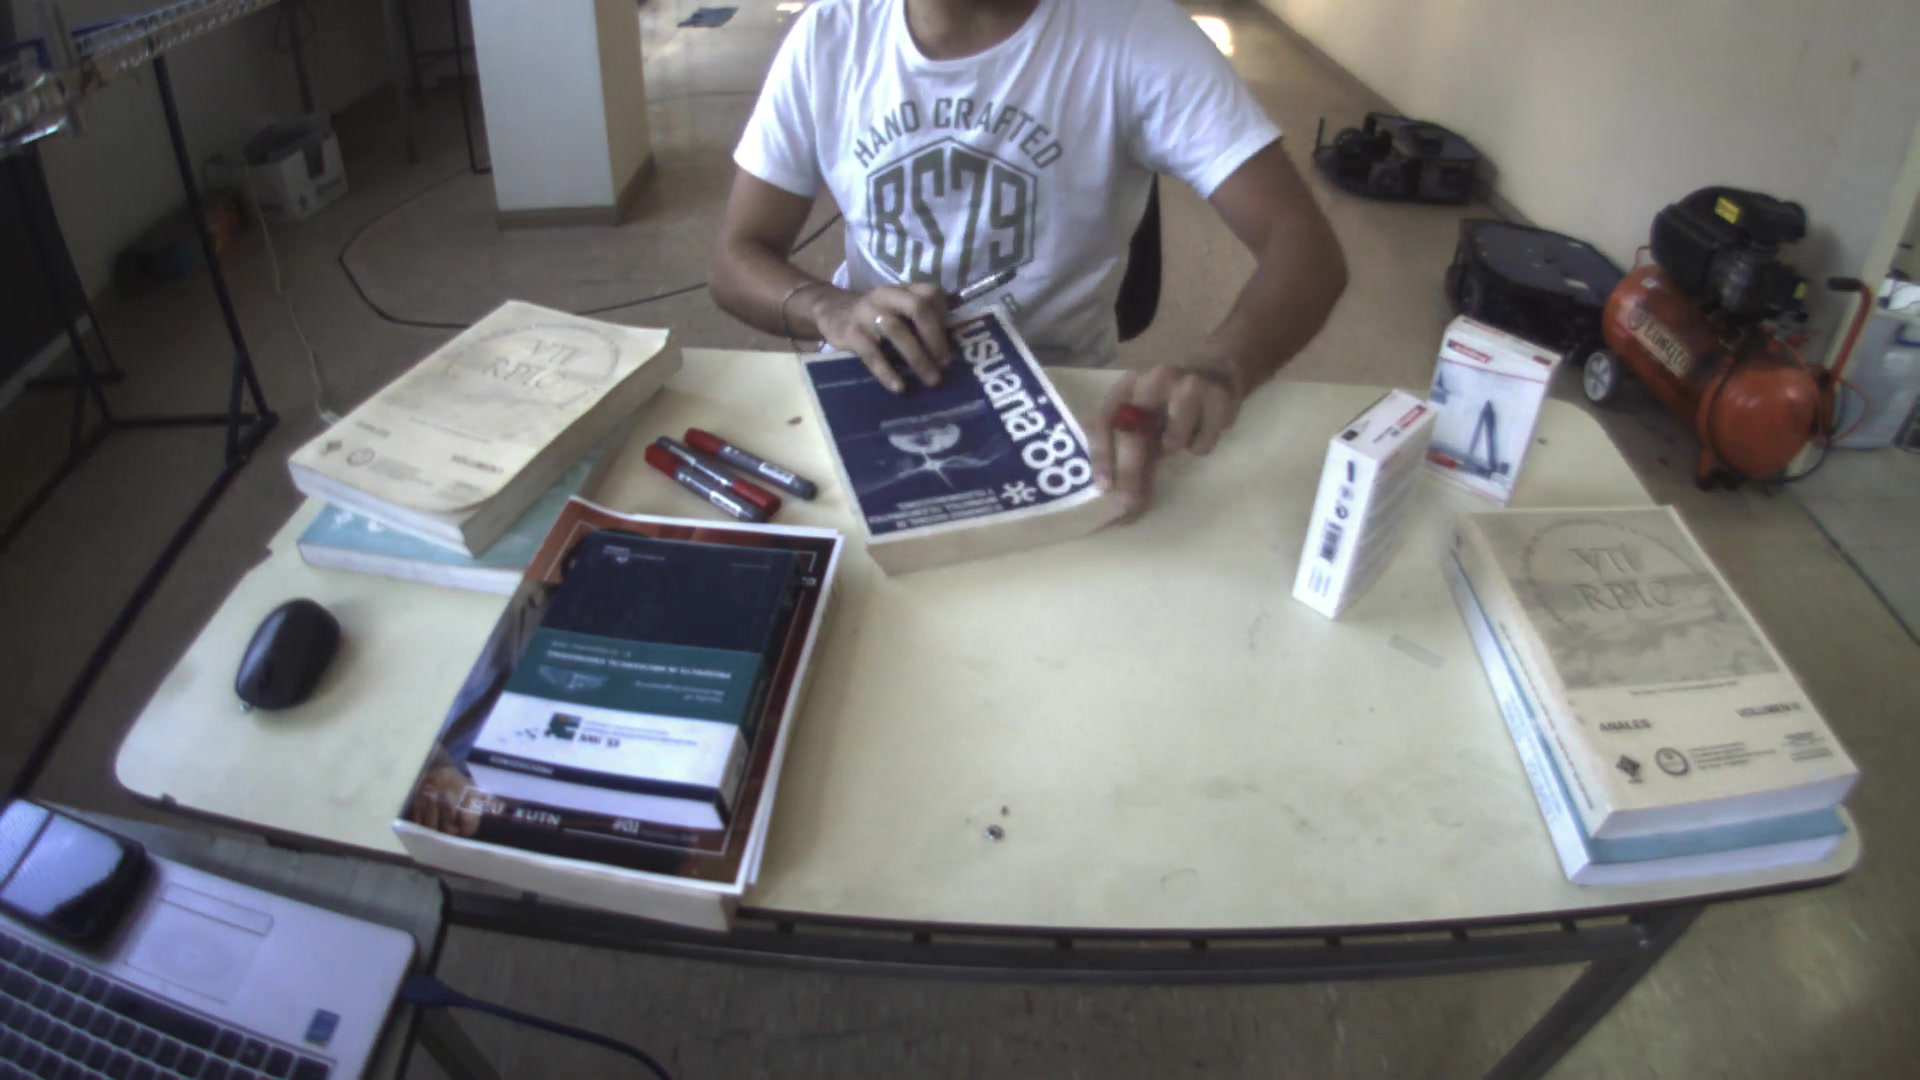hand: (1065, 328, 1265, 520), (795, 262, 982, 389)
